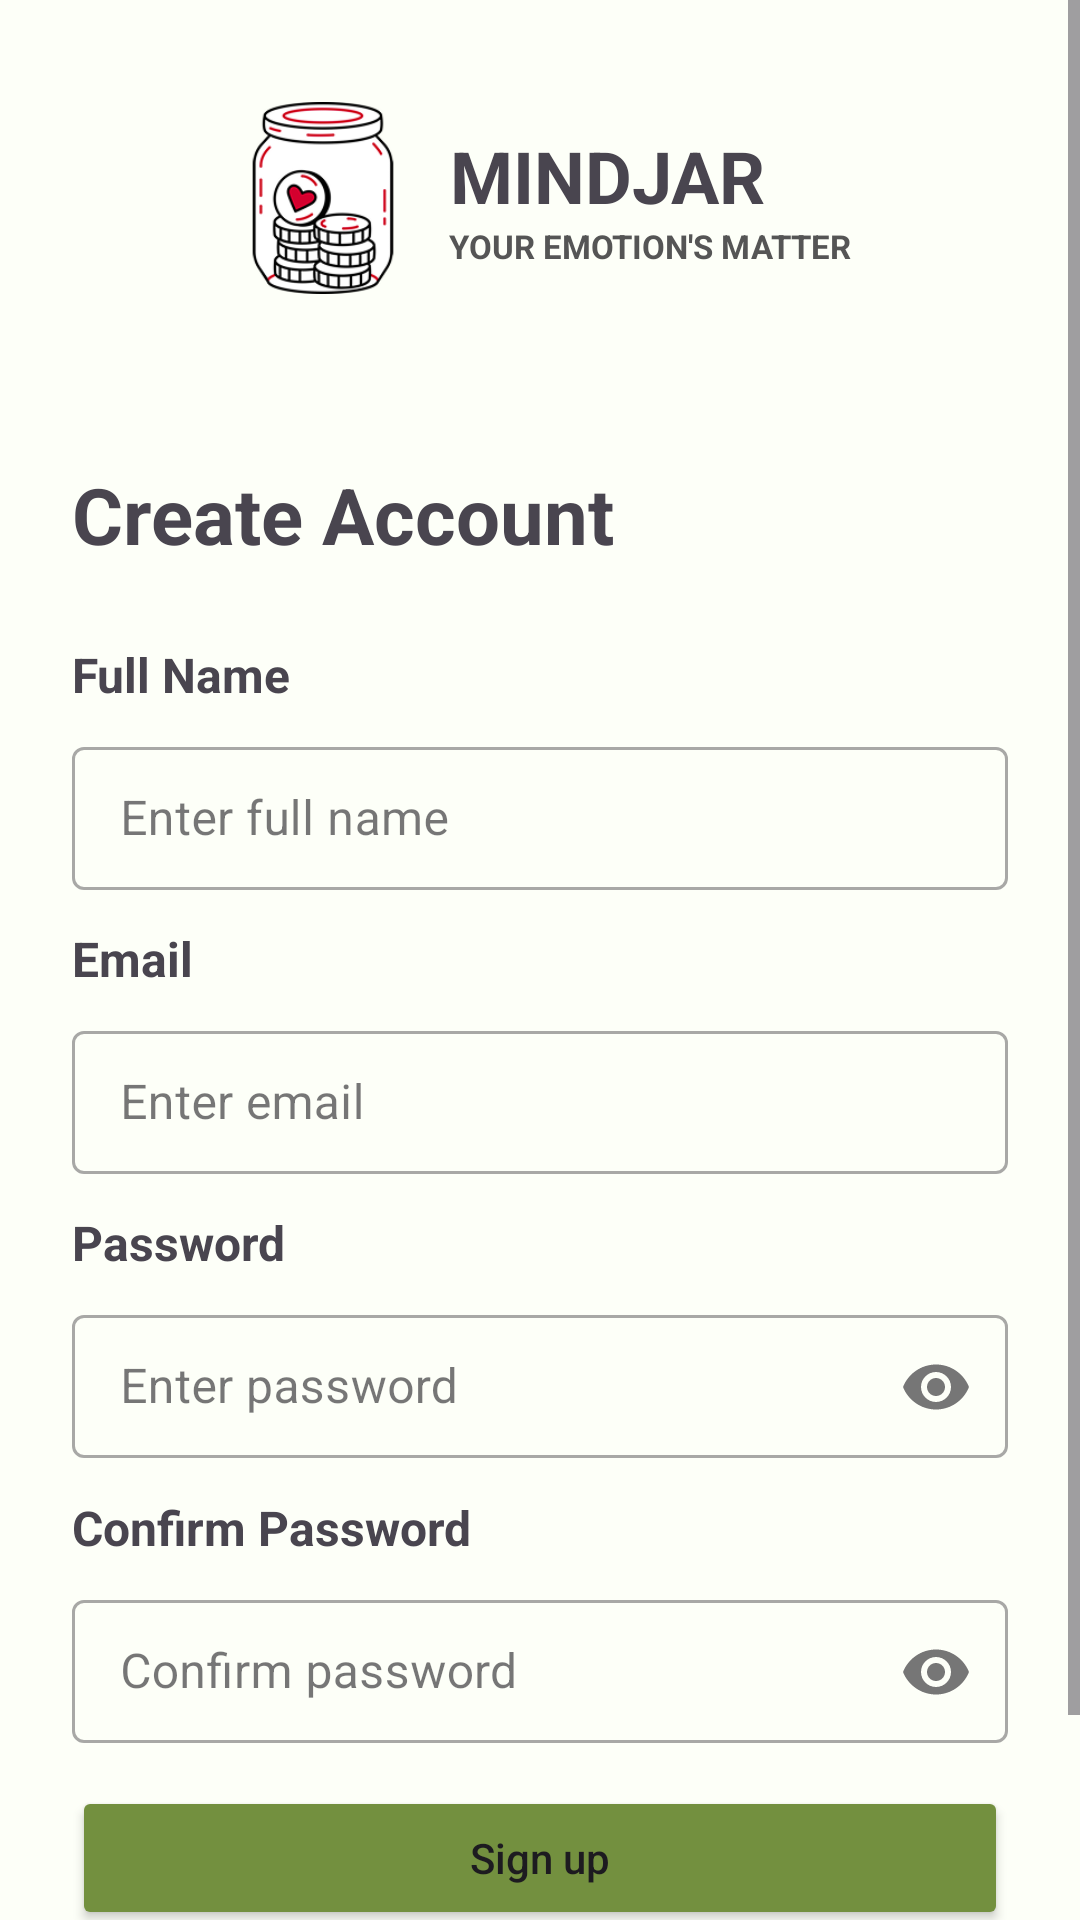

Screen size 1080px×1920px. Icon name, then its box in pixels as (x1, y1, x2, y2):
Jar icon: (252, 102, 394, 294)
